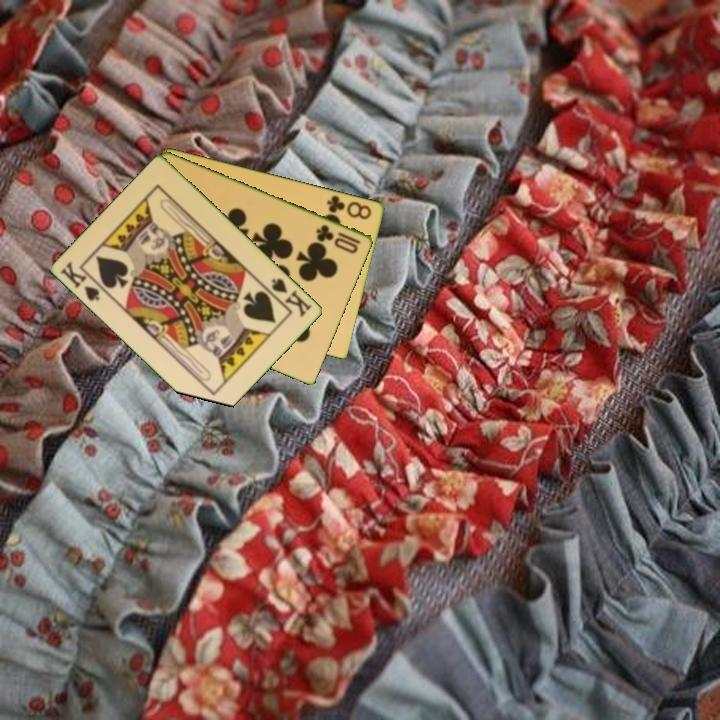10c: (313, 221, 364, 256)
8c: (323, 191, 375, 222)
Ks: (57, 258, 110, 304), (263, 275, 315, 320)
